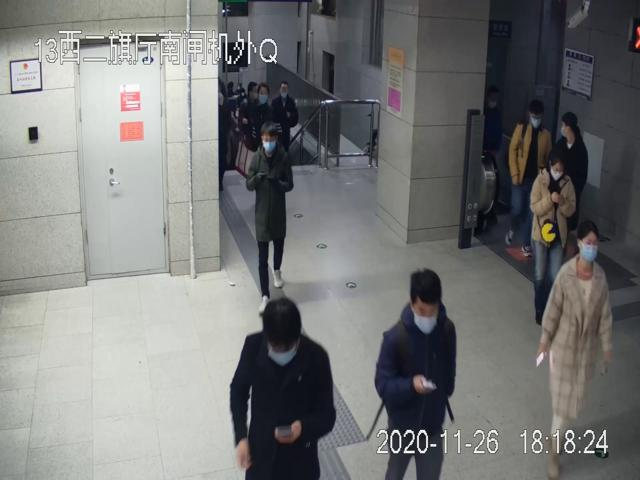person: (536, 220, 614, 480), (230, 299, 335, 480), (374, 267, 458, 480), (247, 122, 293, 314), (530, 153, 577, 319), (507, 101, 554, 259)
